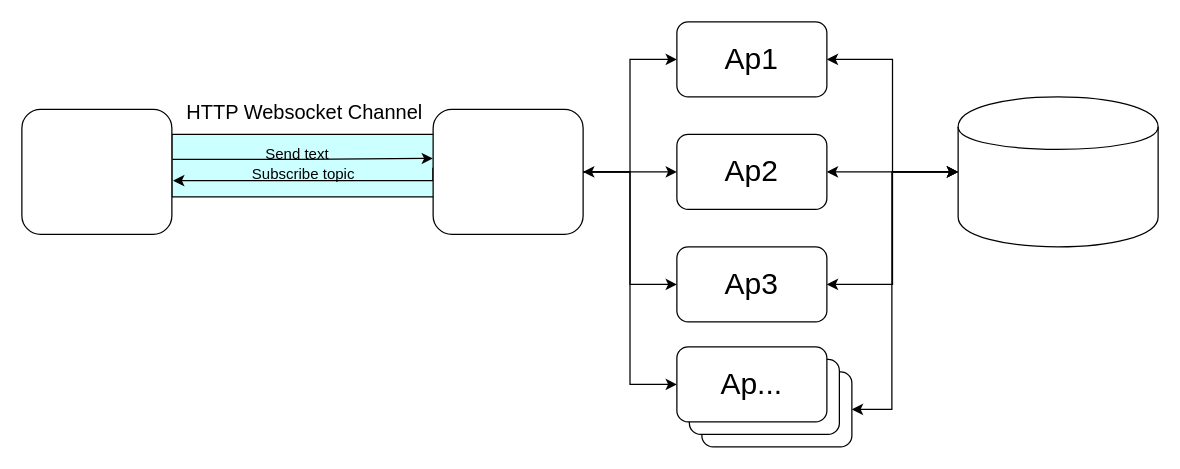
Some shapes in this 1180 by 469 pixel diagram are drawn without their labels. The centre of each missing label's shape, as x and y in pixels:
"Client AP" belongs at pixel 96 171.
"Load Balance (nginx)" belongs at pixel 507 171.
"RabbitMQ" belongs at pixel 1057 171.
